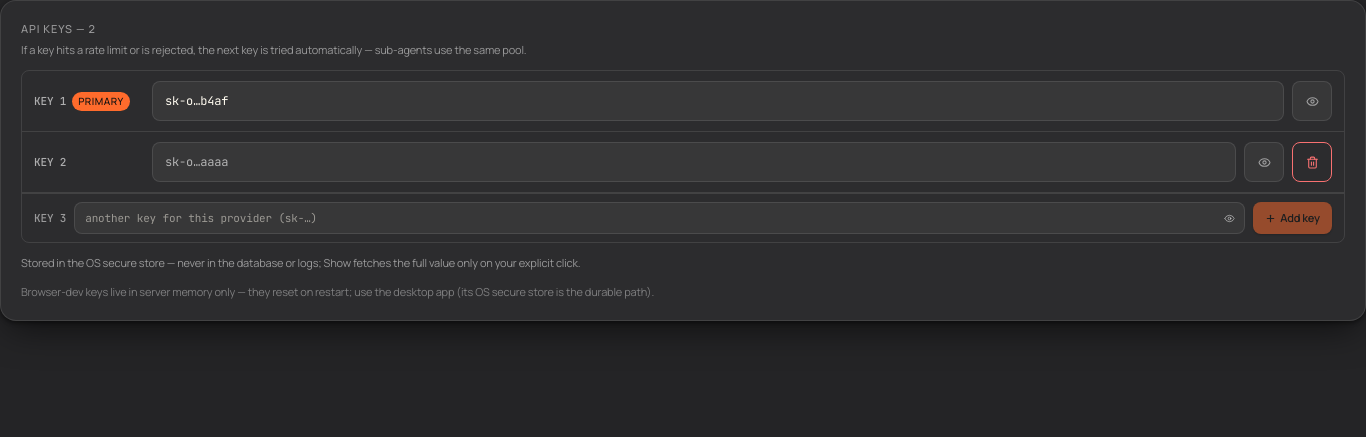
Test: ProviderKeysCard — first-free-slot + the R92-D3/R47 Tauri fix › a gap is filled first: only slot 2 held (plus the primary) → the next add PUTs slot 1
Expected: the text "sk-o…aaaa" is shown, [165,154,228,170]
Type "sk-or-v1-pool-key-001" into the password field named "New API key" at (660, 218), box [74,202,1245,234]
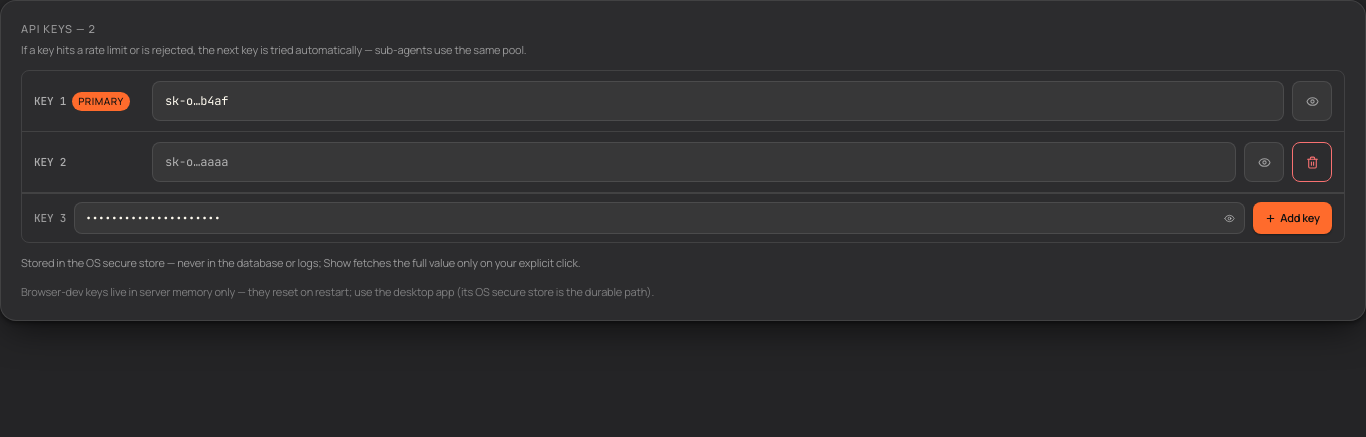
Click the button "Add key" at (1293, 218), box [1253,202,1332,234]
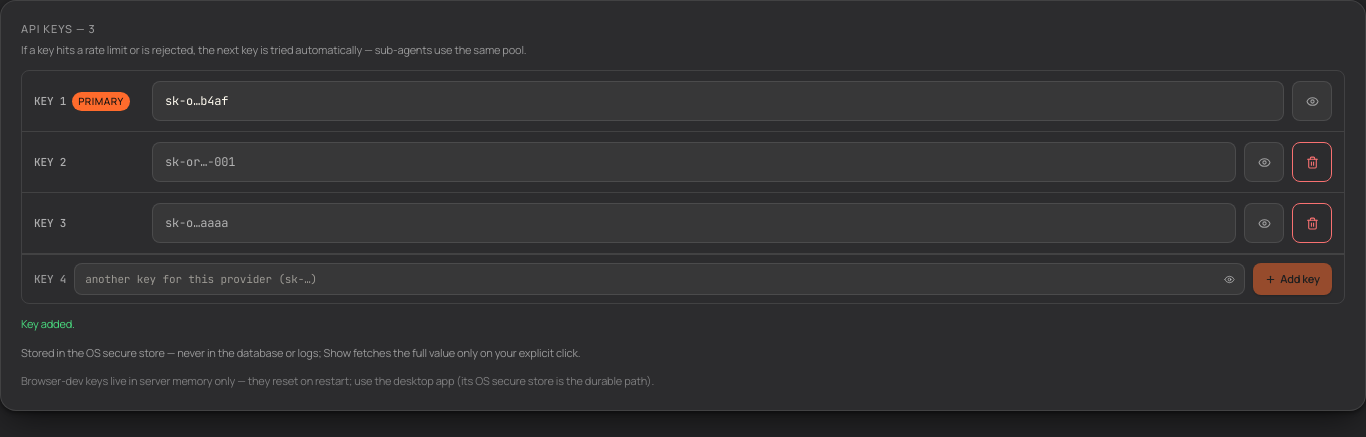
Expected: the text "sk-or…-001" is shown, [165,154,235,170]
